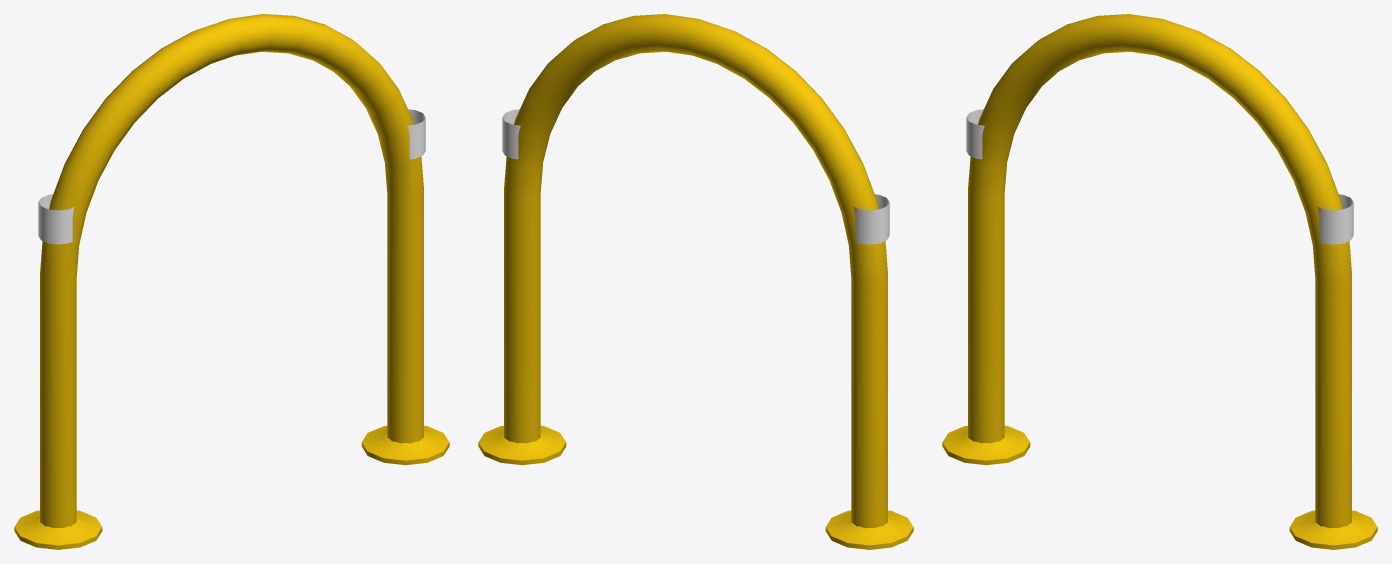
The model's file is bollard_u.fbx.
3 views of the same model, side by side, from view 1: azimuth 30°, elevation 25°; view 2: azimuth 150°, elevation 25°; view 3: azimuth 330°, elevation 25° (orthographic).
Visible parts, largest first — view 1: bollard_u; view 2: bollard_u; view 3: bollard_u.
Part boxes in pixels (x1,y1,x2,y2): bollard_u: [14, 14, 449, 549]; bollard_u: [478, 14, 913, 549]; bollard_u: [942, 14, 1377, 549].
Bounding box in the file's own units: 0.78 × 0.825 × 0.14.
